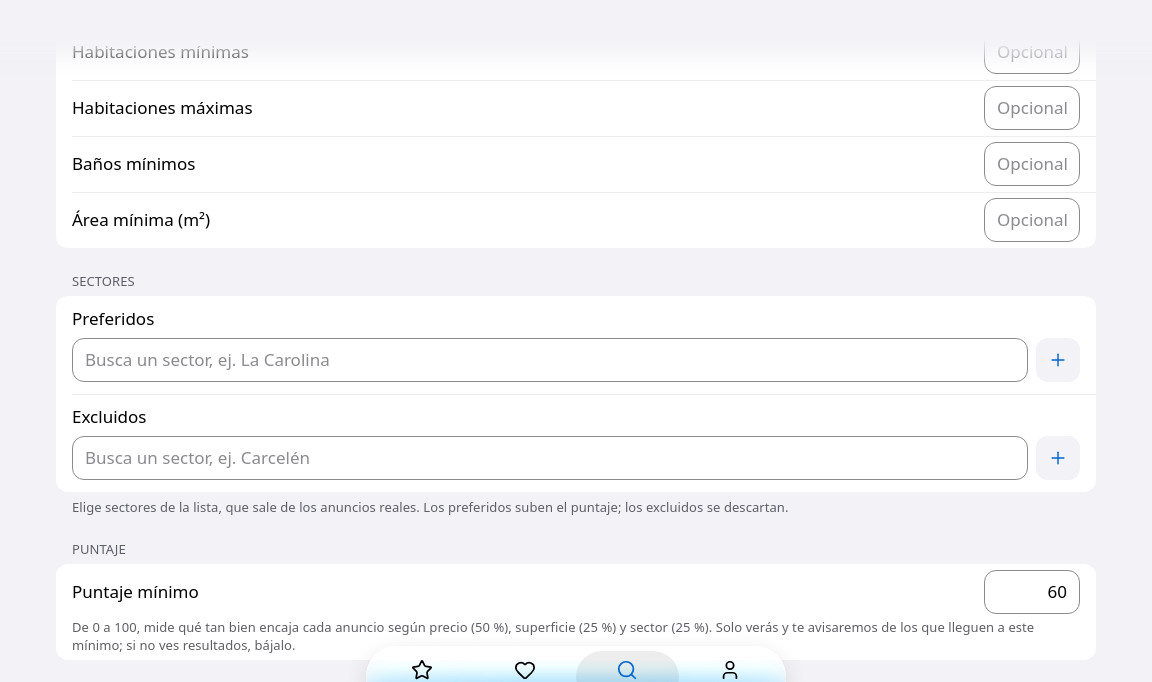
SearchProfilePage › refuses a misspelled sector instead of saving it
(page scrolled)
Type "Carolna" into the dropdown labelled "Preferidos" at (550, 360), box [72,338,1028,382]
Then press Enter
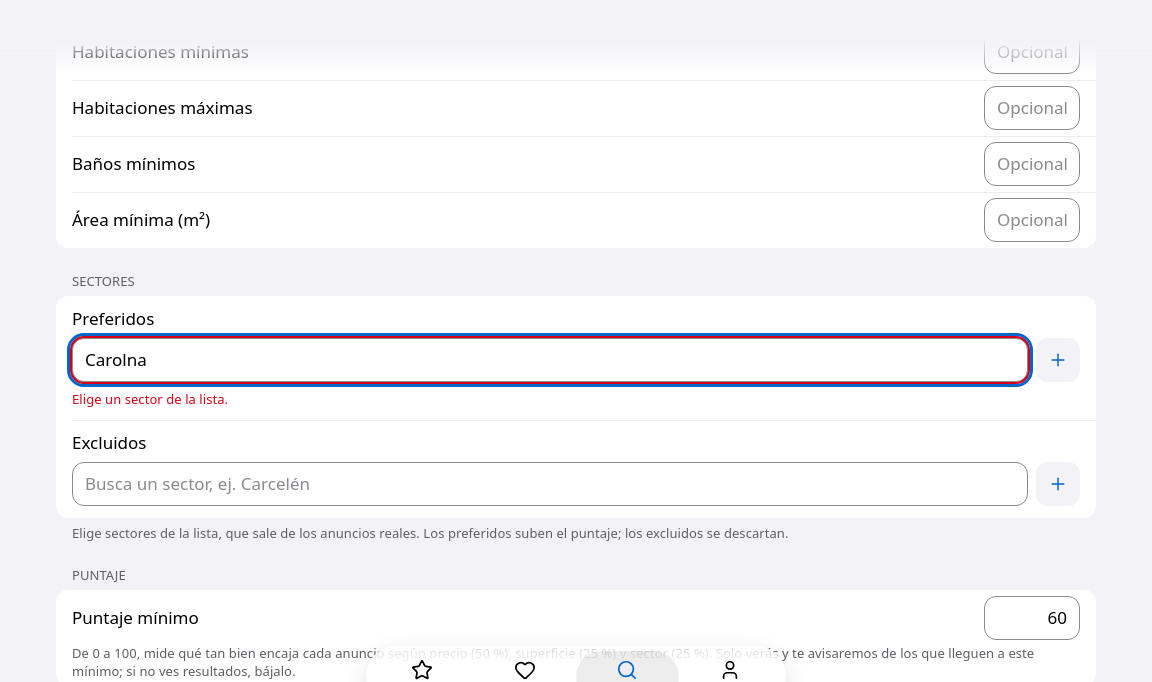
Expected: the text "Elige un sector de la lista." is shown, [72,390,228,408]
